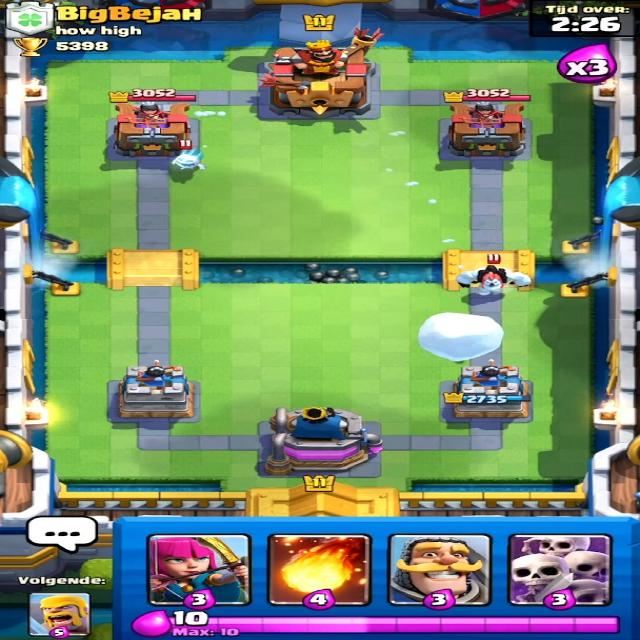Enemy_Ice_Golem_Troop: (455, 261, 537, 307)
Enemy_Ice_Spirit_Troop: (169, 149, 206, 170)
Enemy_Snowball_Troop: (416, 309, 506, 362)
Fireball_Card: (264, 532, 379, 610)
